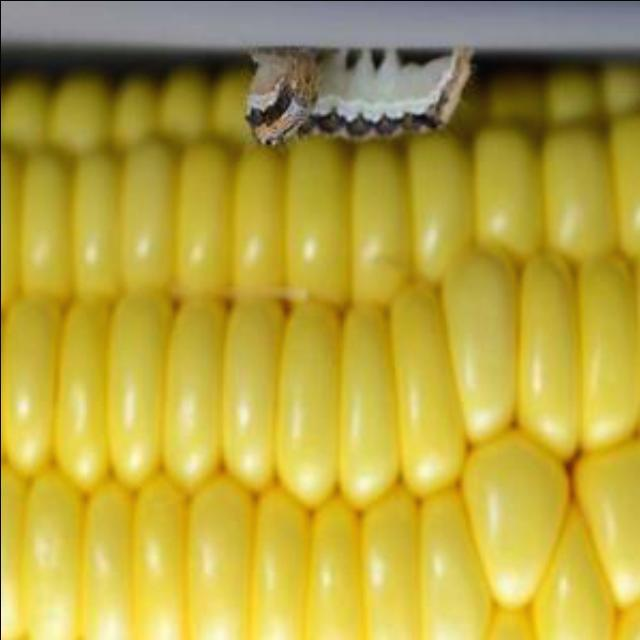Cotton bollworm: (208, 18, 506, 184)
